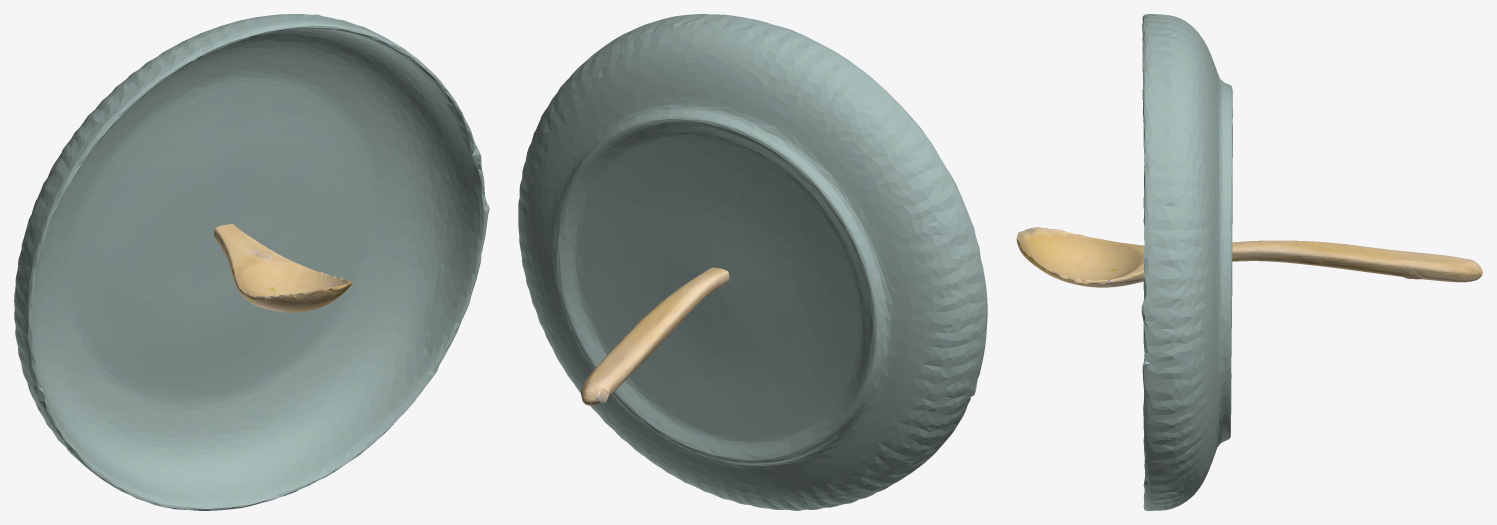
3 views of the same model, side by side, from view 1: azimuth 30°, elevation 25°; view 2: azimuth 150°, elevation 25°; view 3: azimuth 270°, elevation 25° (orthographic). The views are drawn at different scales.
Visible parts, largest first — view 1: world; view 2: world; view 3: world.
Boxes of the visible parts, x1,y1,x2,y2 form: world: (14,14,489,510); world: (518,14,987,510); world: (1016,14,1482,510).
Size of the model in its own units: 0.2089 by 0.2061 by 0.1935.
